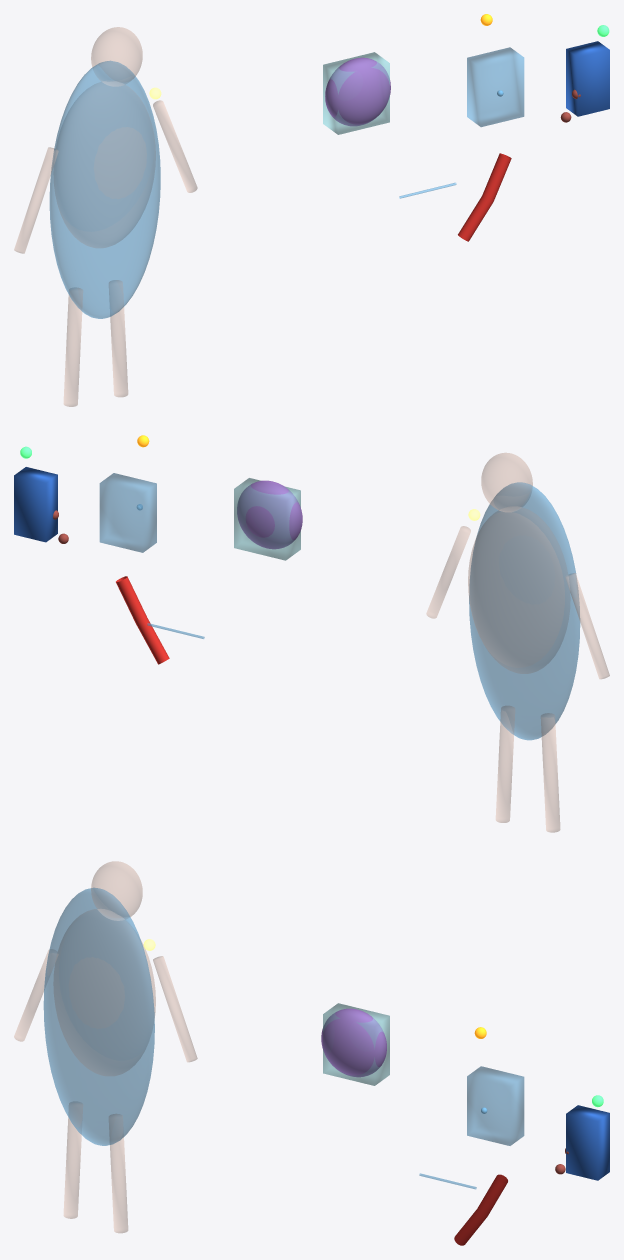
File: compartiments_liquidiens_premium.glb
3 views of the same model, one above another, from view 1: azimuth 30°, elevation 25°; view 2: azimuth 150°, elevation 25°; view 3: azimuth 330°, elevation 25° (orthographic).
Visible parts, largest first — view 1: COMPARTMENT_eau_totale_60pc, BODY_silhouette_eau_totale_thorax_abdomen, COMPARTMENT_interstitiel, CELL_cellule_volume_intracellulaire, COMPARTMENT_plasmatique, BODY_silhouette_eau_totale_tete, COMPARTMENT_intracellulaire, BODY_silhouette_eau_totale_jambe_gauche, BODY_silhouette_eau_totale_jambe_droite, VESSEL_capillaire_plasma, BODY_silhouette_eau_totale_bras_gauche, BODY_silhouette_eau_totale_bras_droit; view 2: COMPARTMENT_eau_totale_60pc, BODY_silhouette_eau_totale_thorax_abdomen, COMPARTMENT_interstitiel, CELL_cellule_volume_intracellulaire, COMPARTMENT_intracellulaire, COMPARTMENT_plasmatique, BODY_silhouette_eau_totale_tete, BODY_silhouette_eau_totale_jambe_gauche, BODY_silhouette_eau_totale_jambe_droite, VESSEL_capillaire_plasma, BODY_silhouette_eau_totale_bras_gauche, BODY_silhouette_eau_totale_bras_droit; view 3: COMPARTMENT_eau_totale_60pc, BODY_silhouette_eau_totale_thorax_abdomen, COMPARTMENT_interstitiel, CELL_cellule_volume_intracellulaire, COMPARTMENT_plasmatique, BODY_silhouette_eau_totale_tete, COMPARTMENT_intracellulaire, BODY_silhouette_eau_totale_jambe_droite, BODY_silhouette_eau_totale_jambe_gauche, BODY_silhouette_eau_totale_bras_droit, VESSEL_capillaire_plasma, BODY_silhouette_eau_totale_bras_gauche.
Boxes of the visible parts, box(x1,y1,x2,y2) form: COMPARTMENT_eau_totale_60pc: box(49, 60, 160, 318); BODY_silhouette_eau_totale_thorax_abdomen: box(54, 81, 155, 247); COMPARTMENT_interstitiel: box(467, 47, 524, 126); CELL_cellule_volume_intracellulaire: box(325, 57, 390, 126); COMPARTMENT_plasmatique: box(566, 41, 609, 116); BODY_silhouette_eau_totale_tete: box(91, 27, 142, 86); COMPARTMENT_intracellulaire: box(323, 52, 389, 134); BODY_silhouette_eau_totale_jambe_gauche: box(63, 288, 82, 406); BODY_silhouette_eau_totale_jambe_droite: box(109, 280, 127, 396); VESSEL_capillaire_plasma: box(458, 153, 511, 241); BODY_silhouette_eau_totale_bras_gauche: box(14, 147, 58, 253); BODY_silhouette_eau_totale_bras_droit: box(153, 100, 197, 192); COMPARTMENT_eau_totale_60pc: box(469, 482, 580, 740); BODY_silhouette_eau_totale_thorax_abdomen: box(468, 508, 570, 673); COMPARTMENT_interstitiel: box(99, 473, 156, 552); CELL_cellule_volume_intracellulaire: box(237, 480, 302, 549); COMPARTMENT_intracellulaire: box(234, 478, 300, 560); COMPARTMENT_plasmatique: box(14, 467, 57, 542); BODY_silhouette_eau_totale_tete: box(481, 453, 532, 511); BODY_silhouette_eau_totale_jambe_gauche: box(541, 713, 560, 832); BODY_silhouette_eau_totale_jambe_droite: box(496, 706, 514, 822); VESSEL_capillaire_plasma: box(116, 576, 169, 664); BODY_silhouette_eau_totale_bras_gauche: box(565, 573, 609, 678); BODY_silhouette_eau_totale_bras_droit: box(426, 526, 470, 618); COMPARTMENT_eau_totale_60pc: box(43, 887, 154, 1145); BODY_silhouette_eau_totale_thorax_abdomen: box(53, 909, 155, 1075); COMPARTMENT_interstitiel: box(467, 1066, 524, 1145); CELL_cellule_volume_intracellulaire: box(321, 1008, 386, 1077); COMPARTMENT_plasmatique: box(566, 1105, 609, 1180); BODY_silhouette_eau_totale_tete: box(91, 861, 142, 920); COMPARTMENT_intracellulaire: box(323, 1003, 389, 1085); BODY_silhouette_eau_totale_jambe_droite: box(109, 1114, 127, 1232); BODY_silhouette_eau_totale_jambe_gauche: box(63, 1102, 82, 1218); BODY_silhouette_eau_totale_bras_droit: box(153, 956, 197, 1061); VESSEL_capillaire_plasma: box(454, 1174, 507, 1245); BODY_silhouette_eau_totale_bras_gauche: box(14, 949, 56, 1041).
Size of the model in its own units: 6.27 by 3.72 by 0.532.
